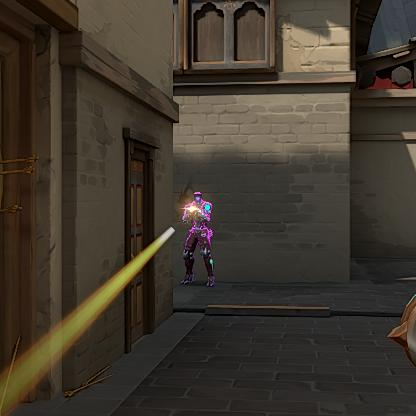enemyBody: (194, 204, 205, 228)
enemyHead: (194, 194, 201, 202)
